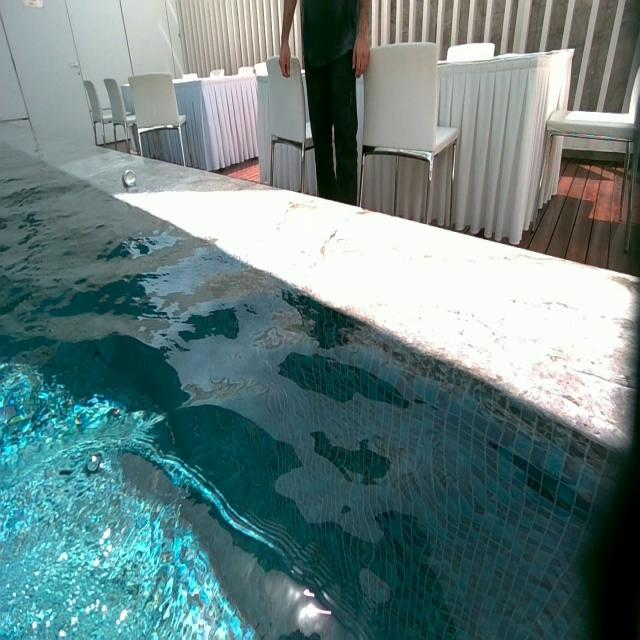Cans: (124, 168, 136, 187)
